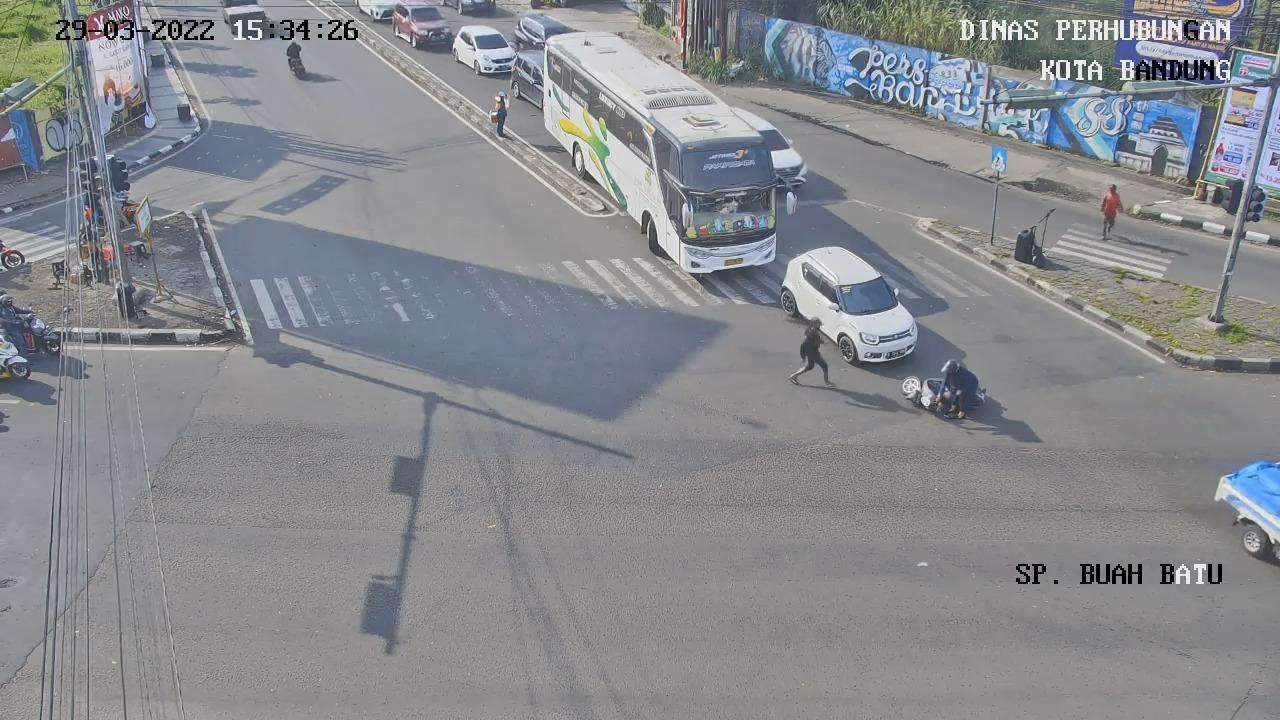accident: (934, 358, 982, 420)
